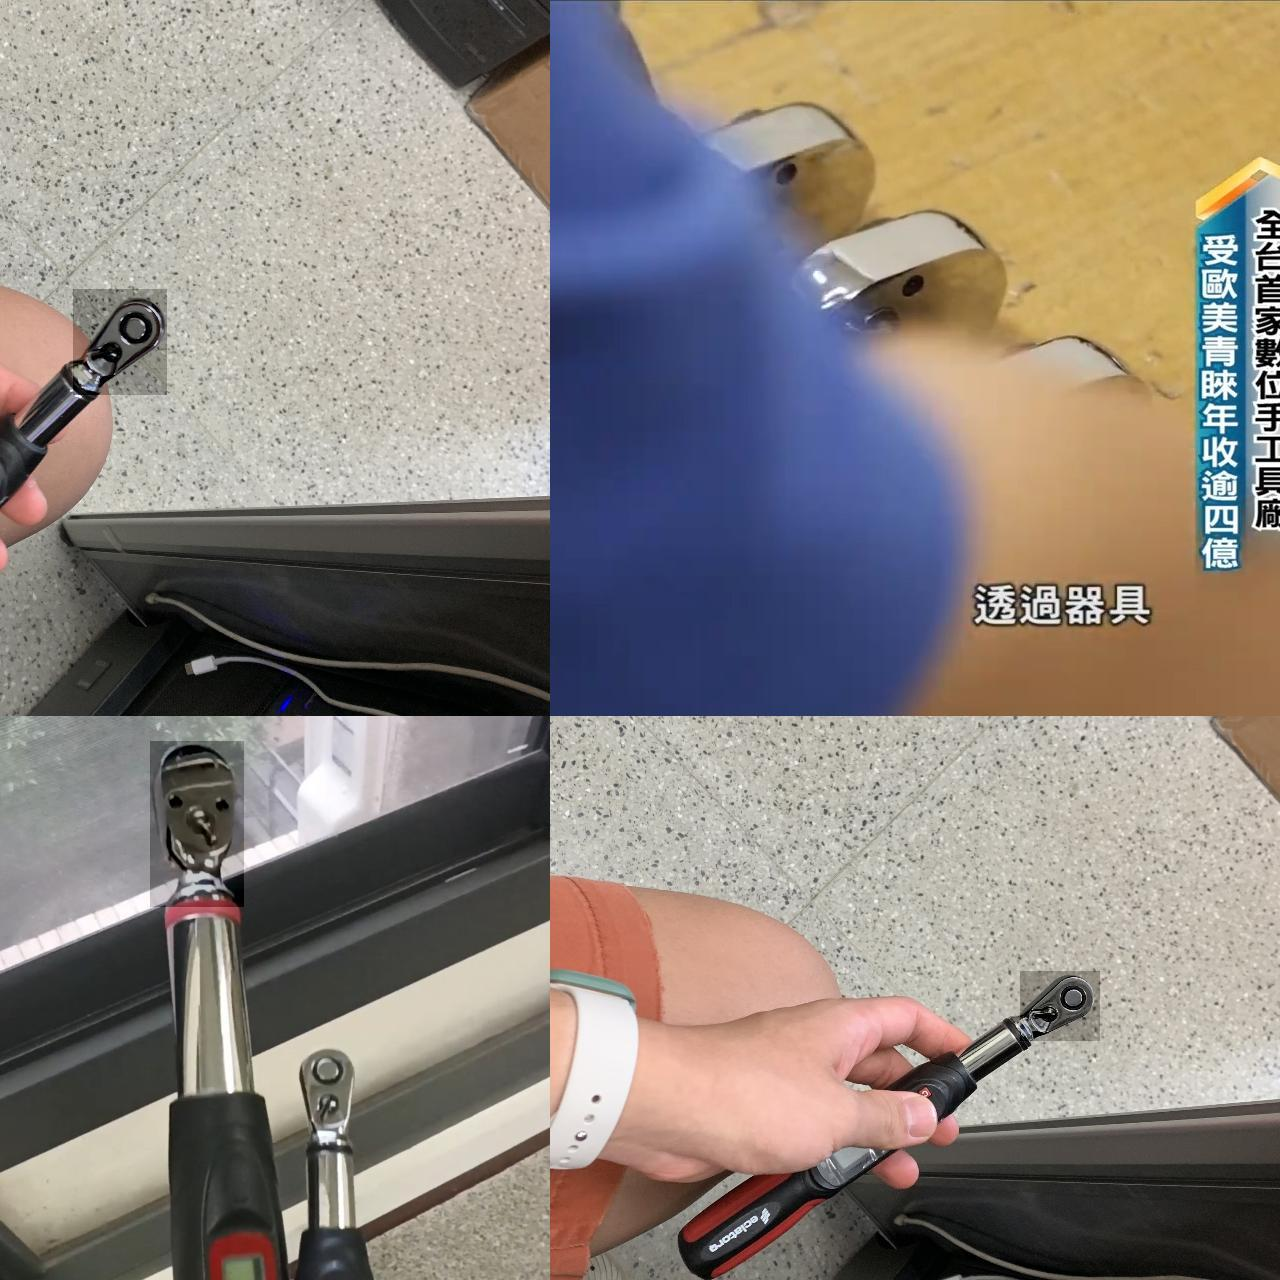Tool: (150, 741, 244, 907), (73, 290, 166, 395), (299, 1049, 360, 1144), (1020, 971, 1099, 1041)
